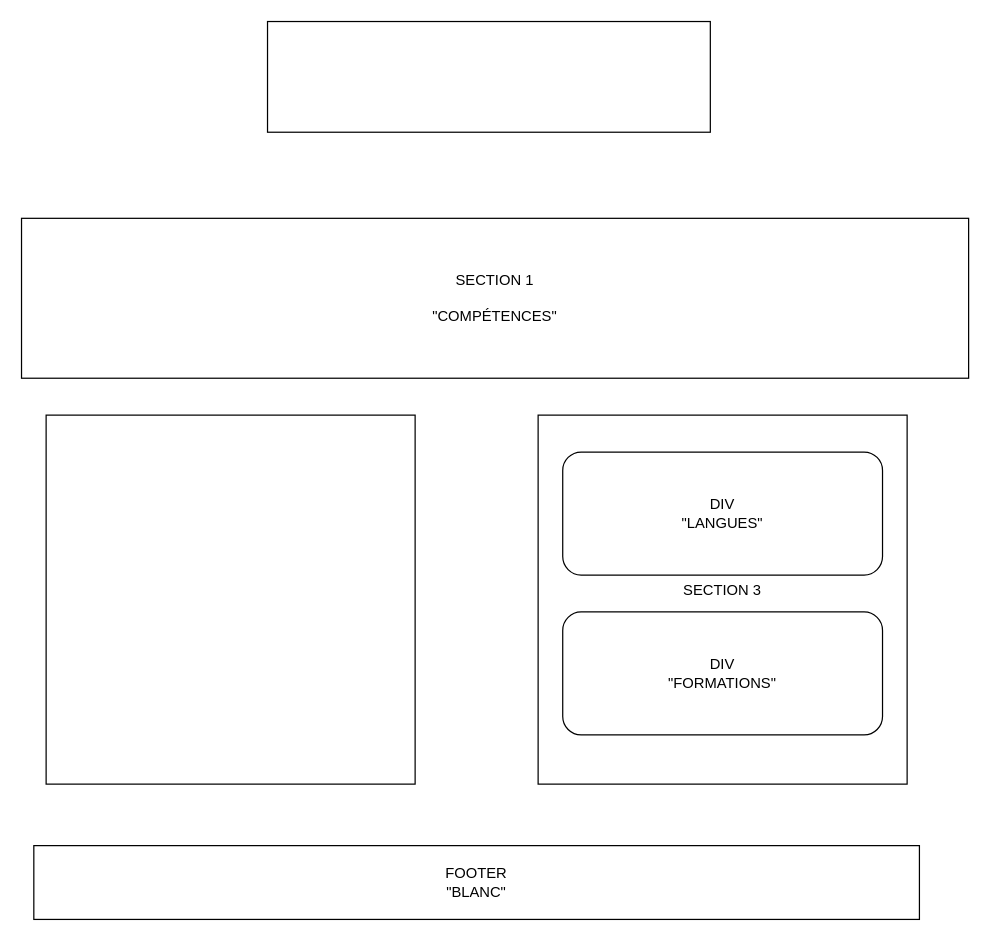
Image size: 990x941. Some labels were removed from this diagram. Each missing label, with the centre of its shape:
HEADER "TITRE": the point at 488,76
SECTION 2 "ÉXPÉRIENCES PROFESSIONNELLES": the point at 230,599
